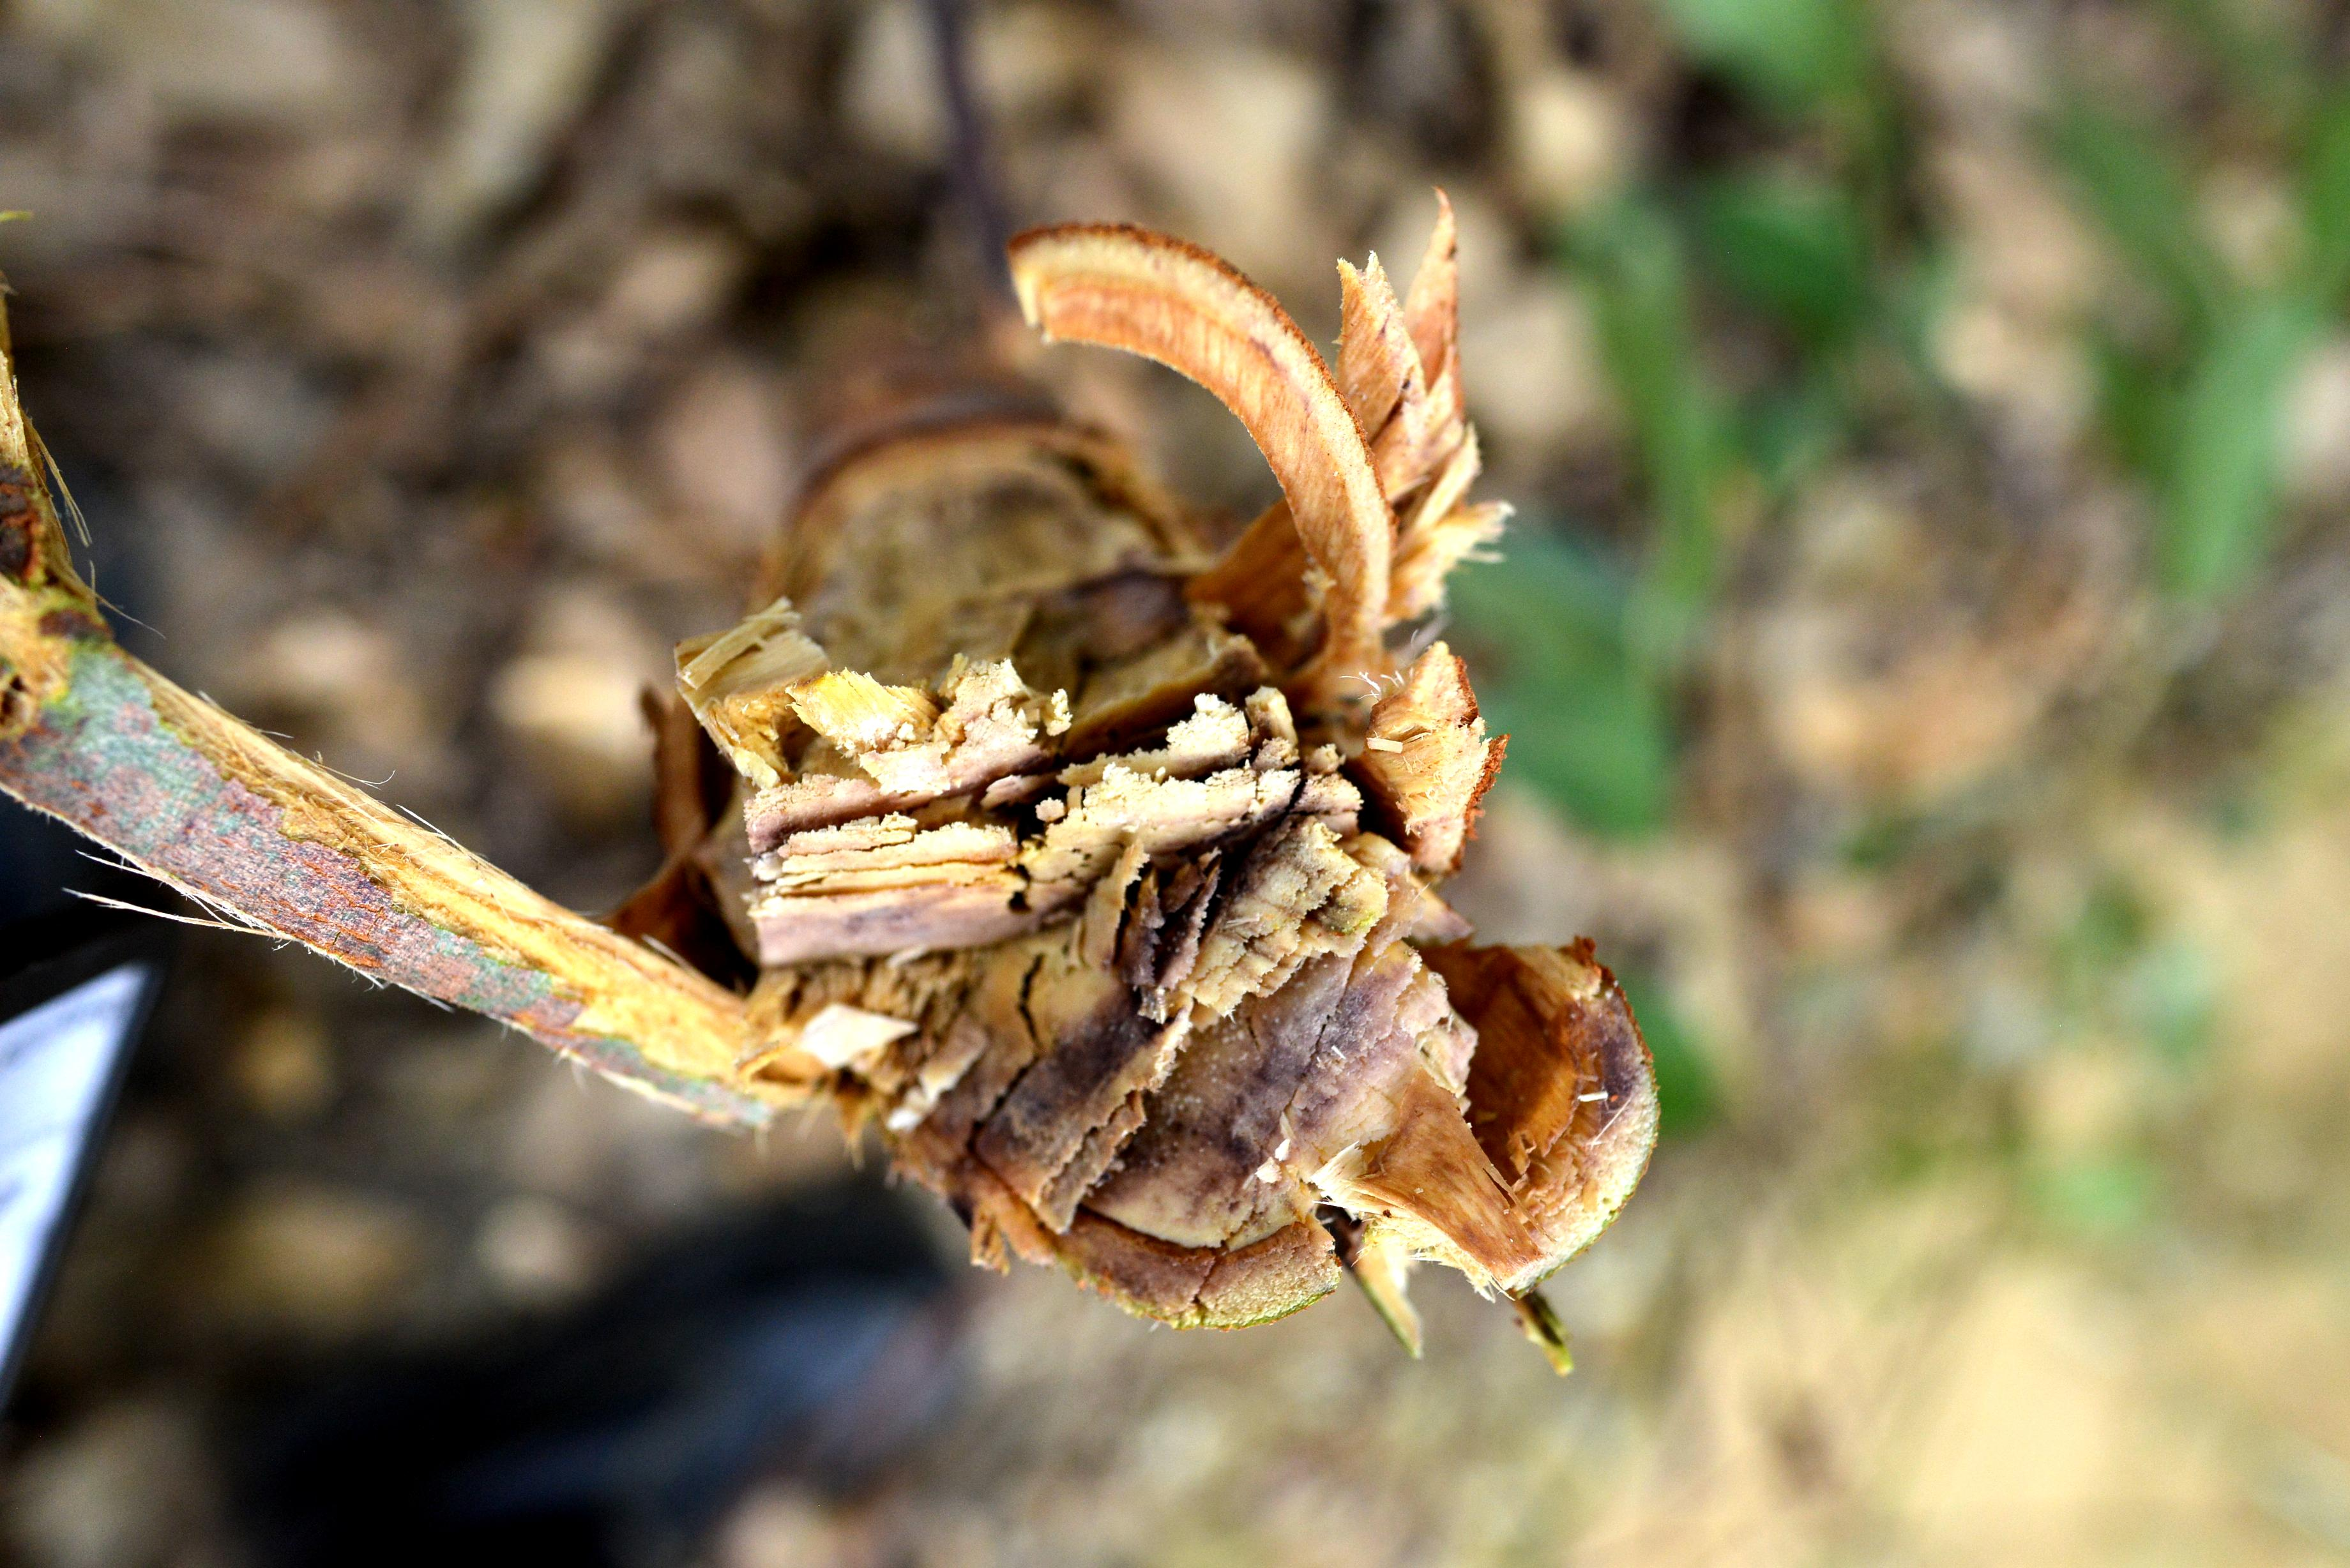Ralstonia: (1062, 1004, 1351, 1193), (994, 565, 1202, 716), (1529, 978, 1669, 1148), (1130, 892, 1202, 989), (838, 688, 899, 772)
